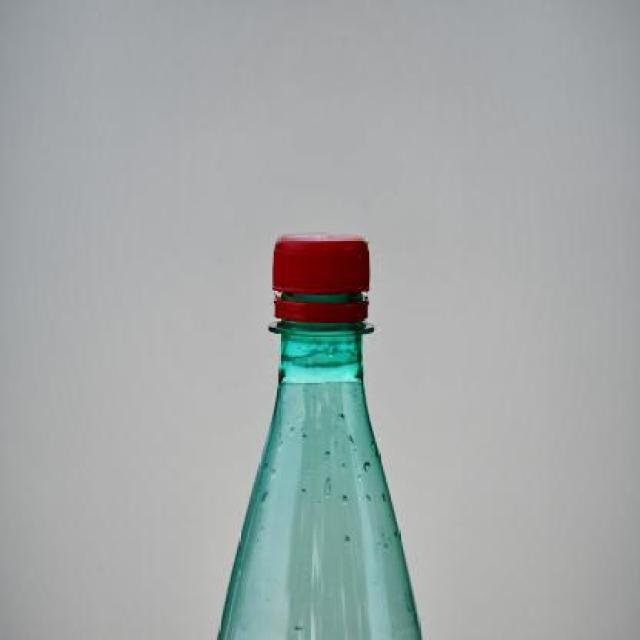bottle: (187, 211, 431, 640)
